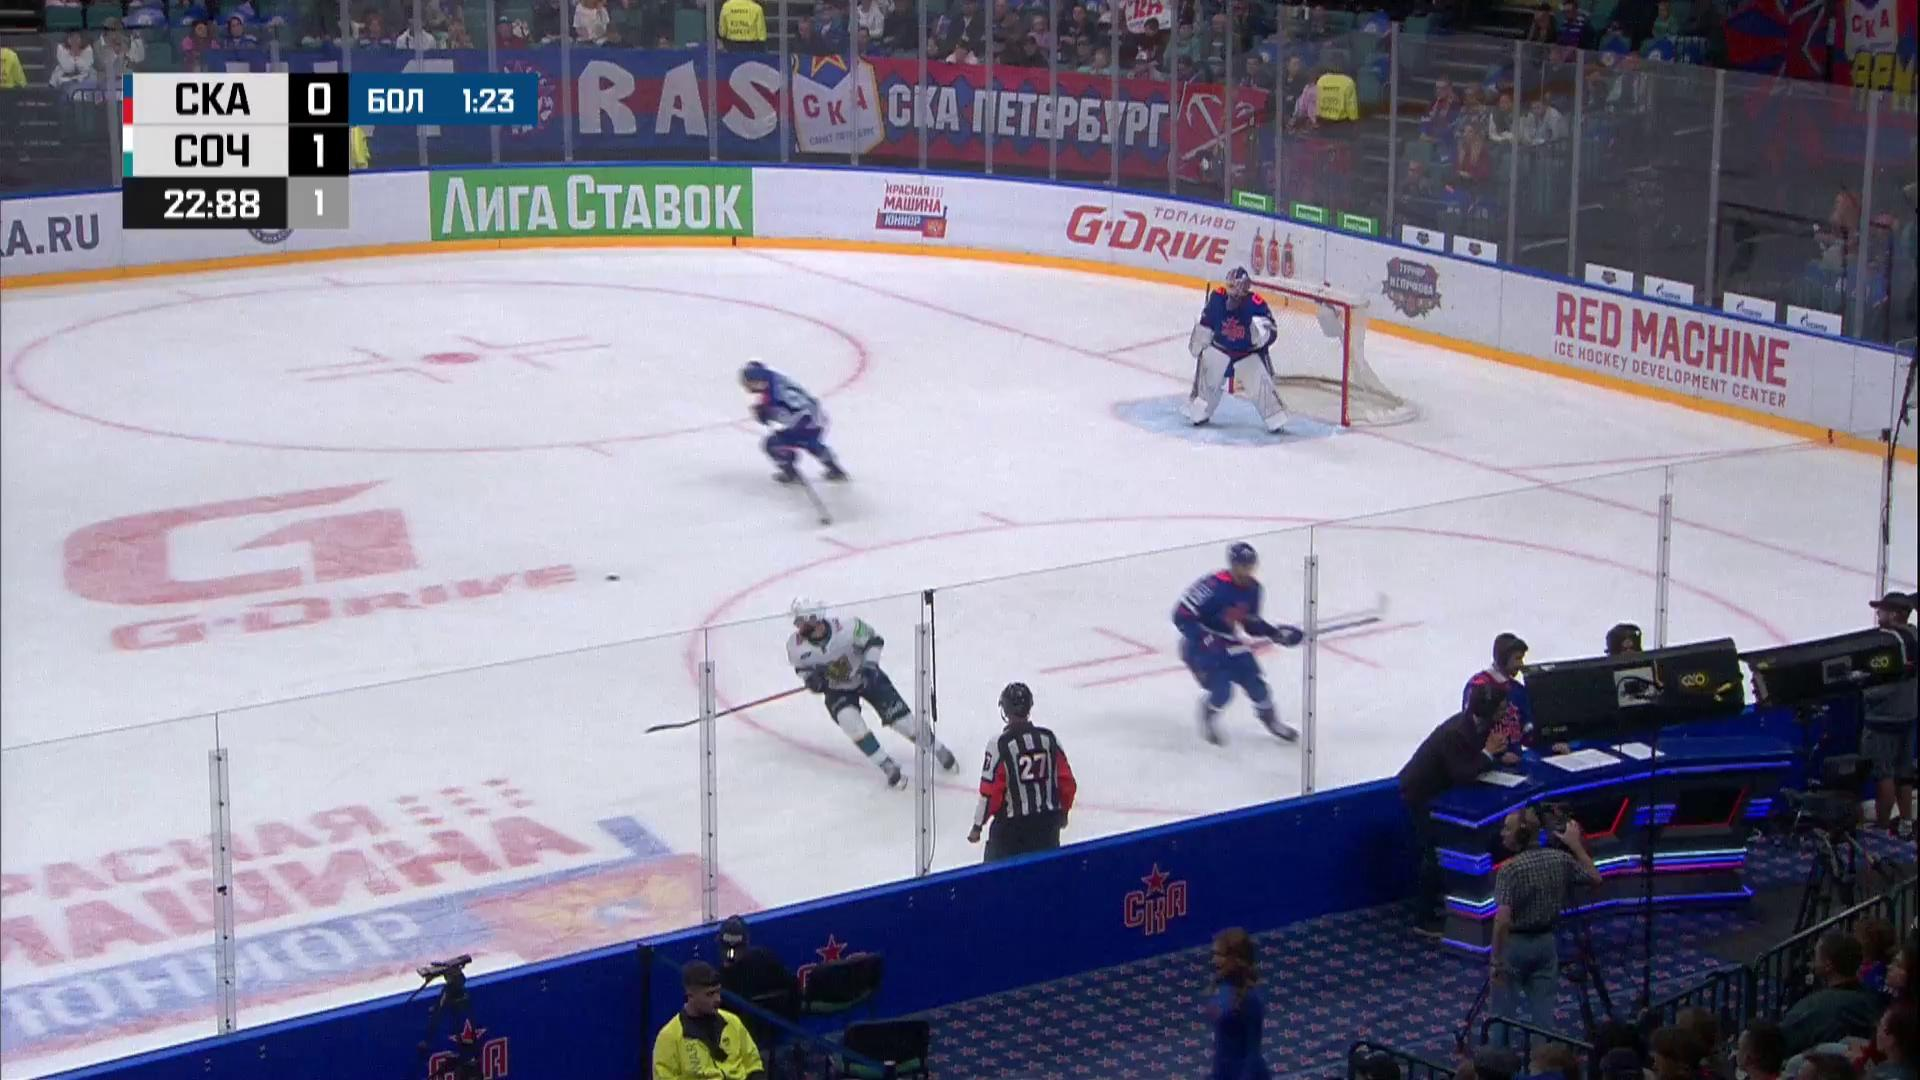ball: (605, 574, 621, 583)
